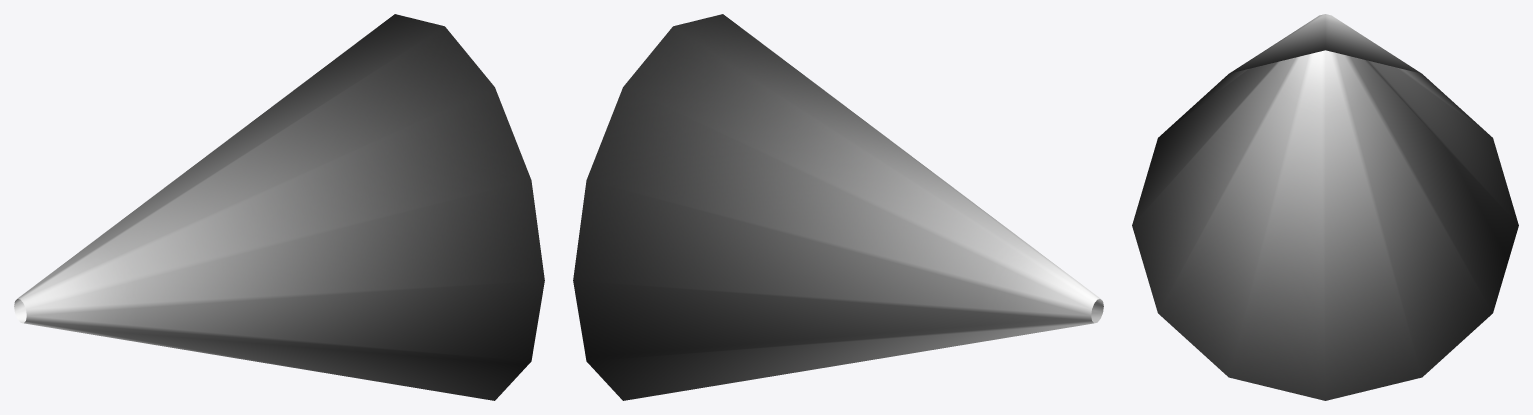
Rendered from light.fbx.
The picture shows the model from 3 angles, left to right: view 1: azimuth 30°, elevation 25°; view 2: azimuth 150°, elevation 25°; view 3: azimuth 270°, elevation 25°; orthographic projection. The views are drawn at different scales.
Parts seen in each view (by area): view 1: searchlight; view 2: searchlight; view 3: searchlight.
Part boxes in pixels (x1=…): searchlight: x1=14, y1=14, x2=544, y2=400; searchlight: x1=573, y1=14, x2=1103, y2=400; searchlight: x1=1132, y1=14, x2=1518, y2=400.
Bounding box in the file's own units: 3.52 × 2.87 × 2.87.
